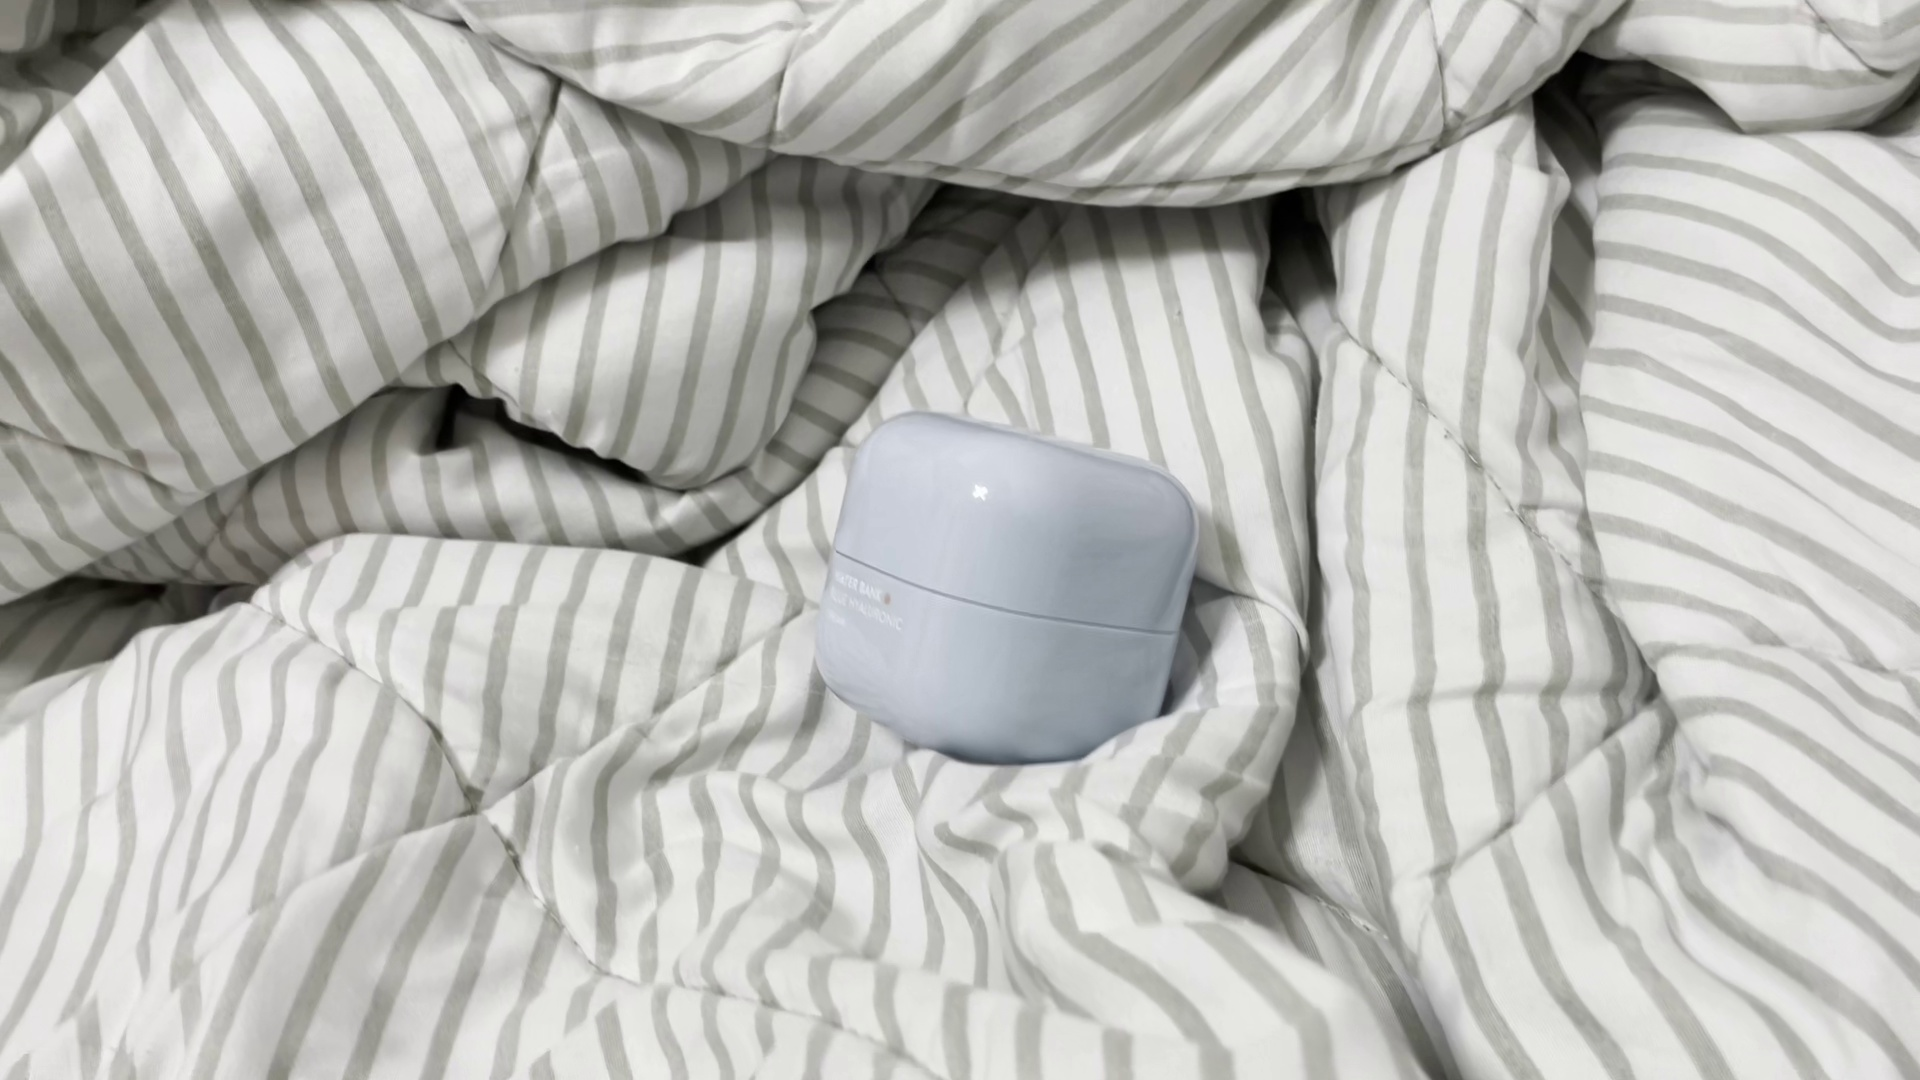cream: (824, 404, 1199, 766)
